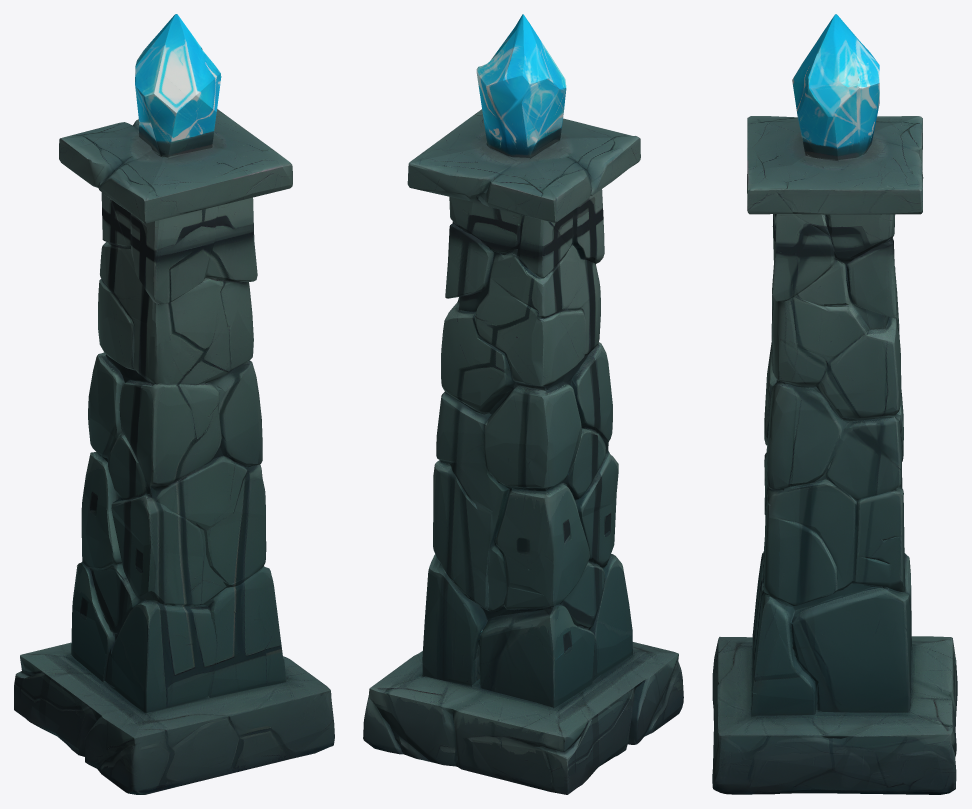
The model's file is prop_shrine.glb.
The picture shows the model from 3 angles, left to right: view 1: azimuth 30°, elevation 25°; view 2: azimuth 150°, elevation 25°; view 3: azimuth 270°, elevation 25°; orthographic projection. The views are drawn at different scales.
Bounding box in the file's own units: 0.5754 × 1.9 × 0.5777.
1 material, 1 textured.
